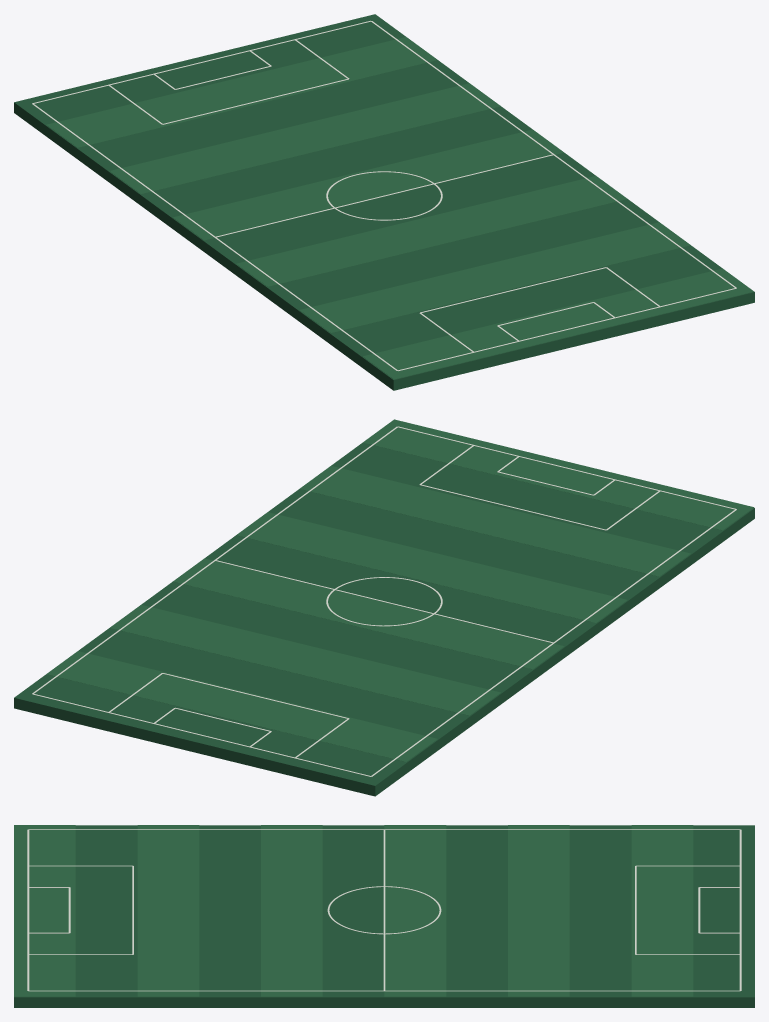
Rendered from field.glb.
3 renders of one model, top to bottom at view 1: azimuth 30°, elevation 25°; view 2: azimuth 150°, elevation 25°; view 3: azimuth 270°, elevation 25°, orthographic. The views are drawn at different scales.
Visible parts, largest first — view 1: Pitch_base, MESH_Pitch_Stripe, MESH_Pitch_Marking; view 2: Pitch_base, MESH_Pitch_Stripe, MESH_Pitch_Marking; view 3: Pitch_base, MESH_Pitch_Stripe, MESH_Pitch_Marking.
Part boxes in pixels (x1,y1,x2,y2): Pitch_base: [14, 14, 754, 390]; MESH_Pitch_Stripe: [46, 37, 753, 379]; MESH_Pitch_Marking: [32, 20, 736, 371]; Pitch_base: [14, 442, 754, 796]; MESH_Pitch_Stripe: [46, 419, 753, 761]; MESH_Pitch_Marking: [32, 426, 736, 776]; Pitch_base: [14, 825, 754, 1007]; MESH_Pitch_Stripe: [14, 825, 693, 996]; MESH_Pitch_Marking: [27, 829, 741, 991].
Bounding box in the file's own units: 6.4 × 0.201 × 11.65.
